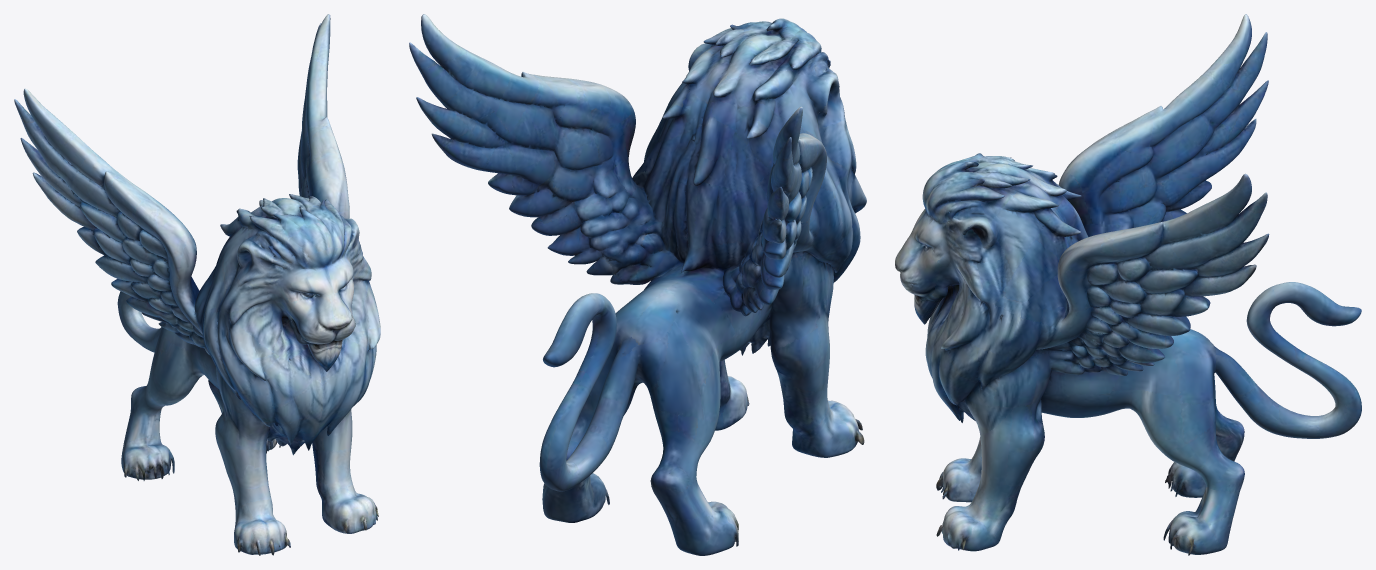
Rendered from majestic-winged-lion-blue-mobile.glb.
3 views of the same model, side by side, from view 1: azimuth 30°, elevation 25°; view 2: azimuth 150°, elevation 25°; view 3: azimuth 270°, elevation 25° (orthographic). The views are drawn at different scales.
Bounding box in the file's own units: 0.4111 × 0.5 × 0.4999.
Materials: 1 (1 with a texture image).
